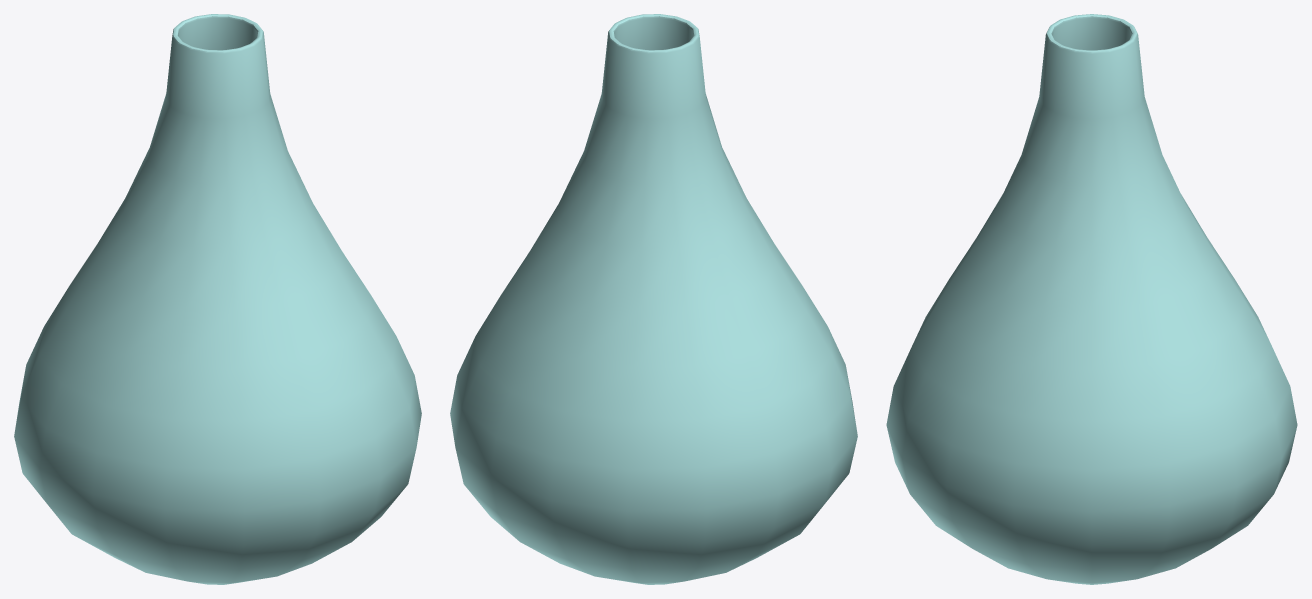
File: little_vase.glb
3 renders of one model, left to right at view 1: azimuth 30°, elevation 25°; view 2: azimuth 150°, elevation 25°; view 3: azimuth 270°, elevation 25°, orthographic.
Parts seen in each view (by area): view 1: Lukas_Heinrichs_Lesson1_Exercise1_Vase.002_Lukas_Heinrichs_L; view 2: Lukas_Heinrichs_Lesson1_Exercise1_Vase.002_Lukas_Heinrichs_L; view 3: Lukas_Heinrichs_Lesson1_Exercise1_Vase.002_Lukas_Heinrichs_L.
Part boxes in pixels (x1=…): Lukas_Heinrichs_Lesson1_Exercise1_Vase.002_Lukas_Heinrichs_L: x1=14, y1=14, x2=421, y2=584; Lukas_Heinrichs_Lesson1_Exercise1_Vase.002_Lukas_Heinrichs_L: x1=450, y1=14, x2=857, y2=584; Lukas_Heinrichs_Lesson1_Exercise1_Vase.002_Lukas_Heinrichs_L: x1=886, y1=14, x2=1297, y2=584.
Size of the model in its own units: 0.2062 by 0.296 by 0.2062.
